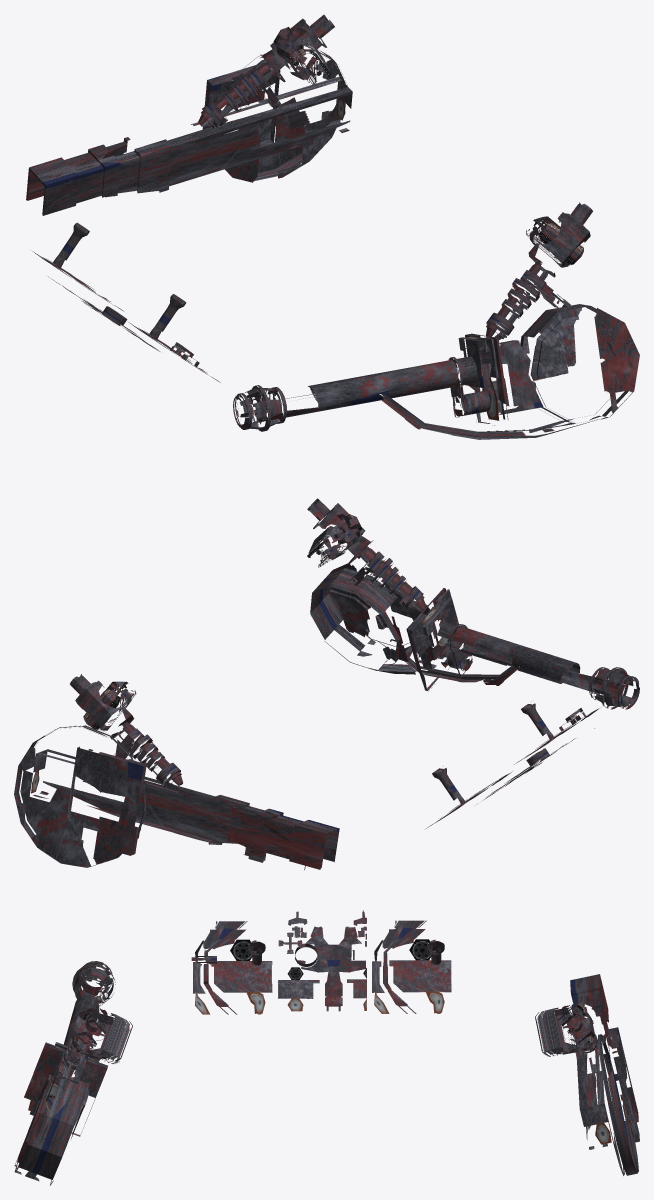
File: arms.dae
3 renders of one model, top to bottom at view 1: azimuth 30°, elevation 25°; view 2: azimuth 150°, elevation 25°; view 3: azimuth 270°, elevation 25°, orthographic. The views are drawn at different scales.
Visible parts, largest first — view 1: Robot1, pPlane5, pPlane4; view 2: Robot1, pPlane5, pPlane4; view 3: Robot1, pCylinder3, pPlane5, pPlane4.
Boxes of the visible parts, x1,y1,x2,y2 form: Robot1: [26, 14, 639, 439]; pPlane5: [128, 294, 220, 382]; pPlane4: [32, 222, 124, 311]; Robot1: [14, 498, 639, 870]; pPlane5: [514, 703, 599, 764]; pPlane4: [426, 768, 512, 828]; Robot1: [14, 961, 639, 1185]; pCylinder3: [277, 910, 366, 1011]; pPlane5: [191, 921, 272, 1014]; pPlane4: [372, 920, 451, 1013].
Size of the model in its own units: 11.7 by 5 by 15.66.
